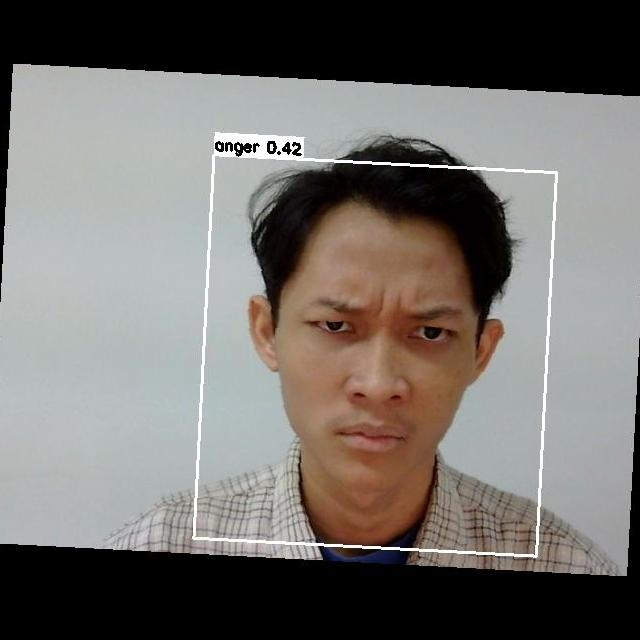Angry: (275, 258, 485, 461)
